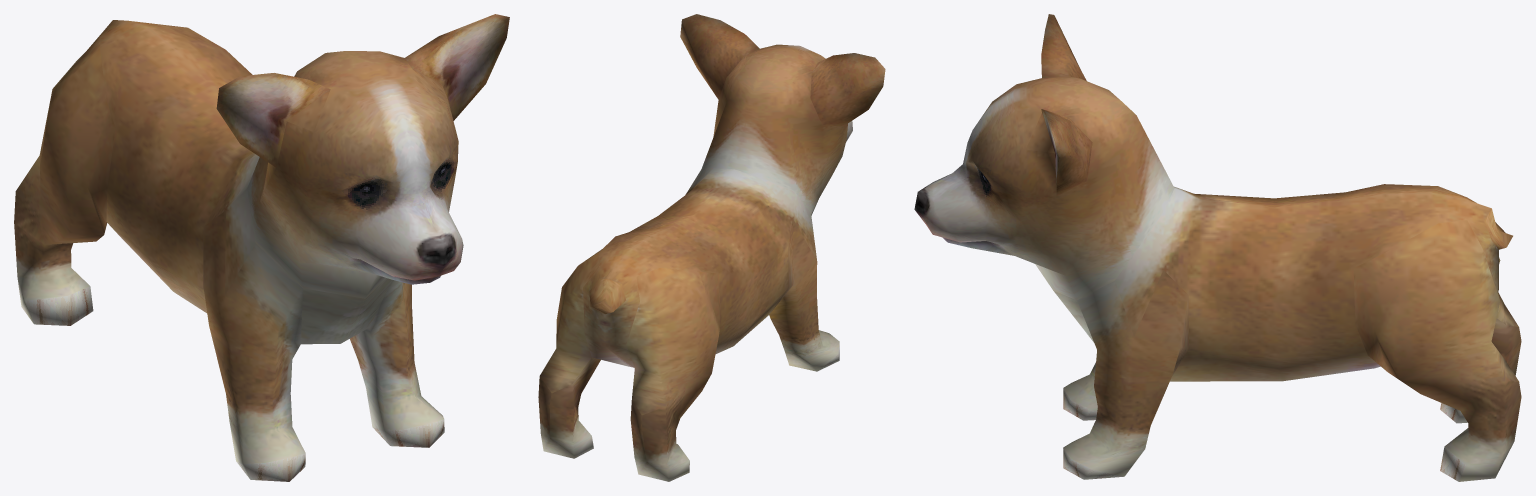
Rendered from corgi.glb.
3 renders of one model, left to right at view 1: azimuth 30°, elevation 25°; view 2: azimuth 150°, elevation 25°; view 3: azimuth 270°, elevation 25°, orthographic. The views are drawn at different scales.
Visible parts, largest first — view 1: Wcp_a; view 2: Wcp_a; view 3: Wcp_a.
Boxes of the visible parts, x1,y1,x2,y2 form: Wcp_a: [14, 14, 509, 481]; Wcp_a: [538, 14, 885, 481]; Wcp_a: [914, 14, 1521, 481].
Bounding box in the file's own units: 1.85 × 2.62 × 3.84.
3 materials, 3 textured.
